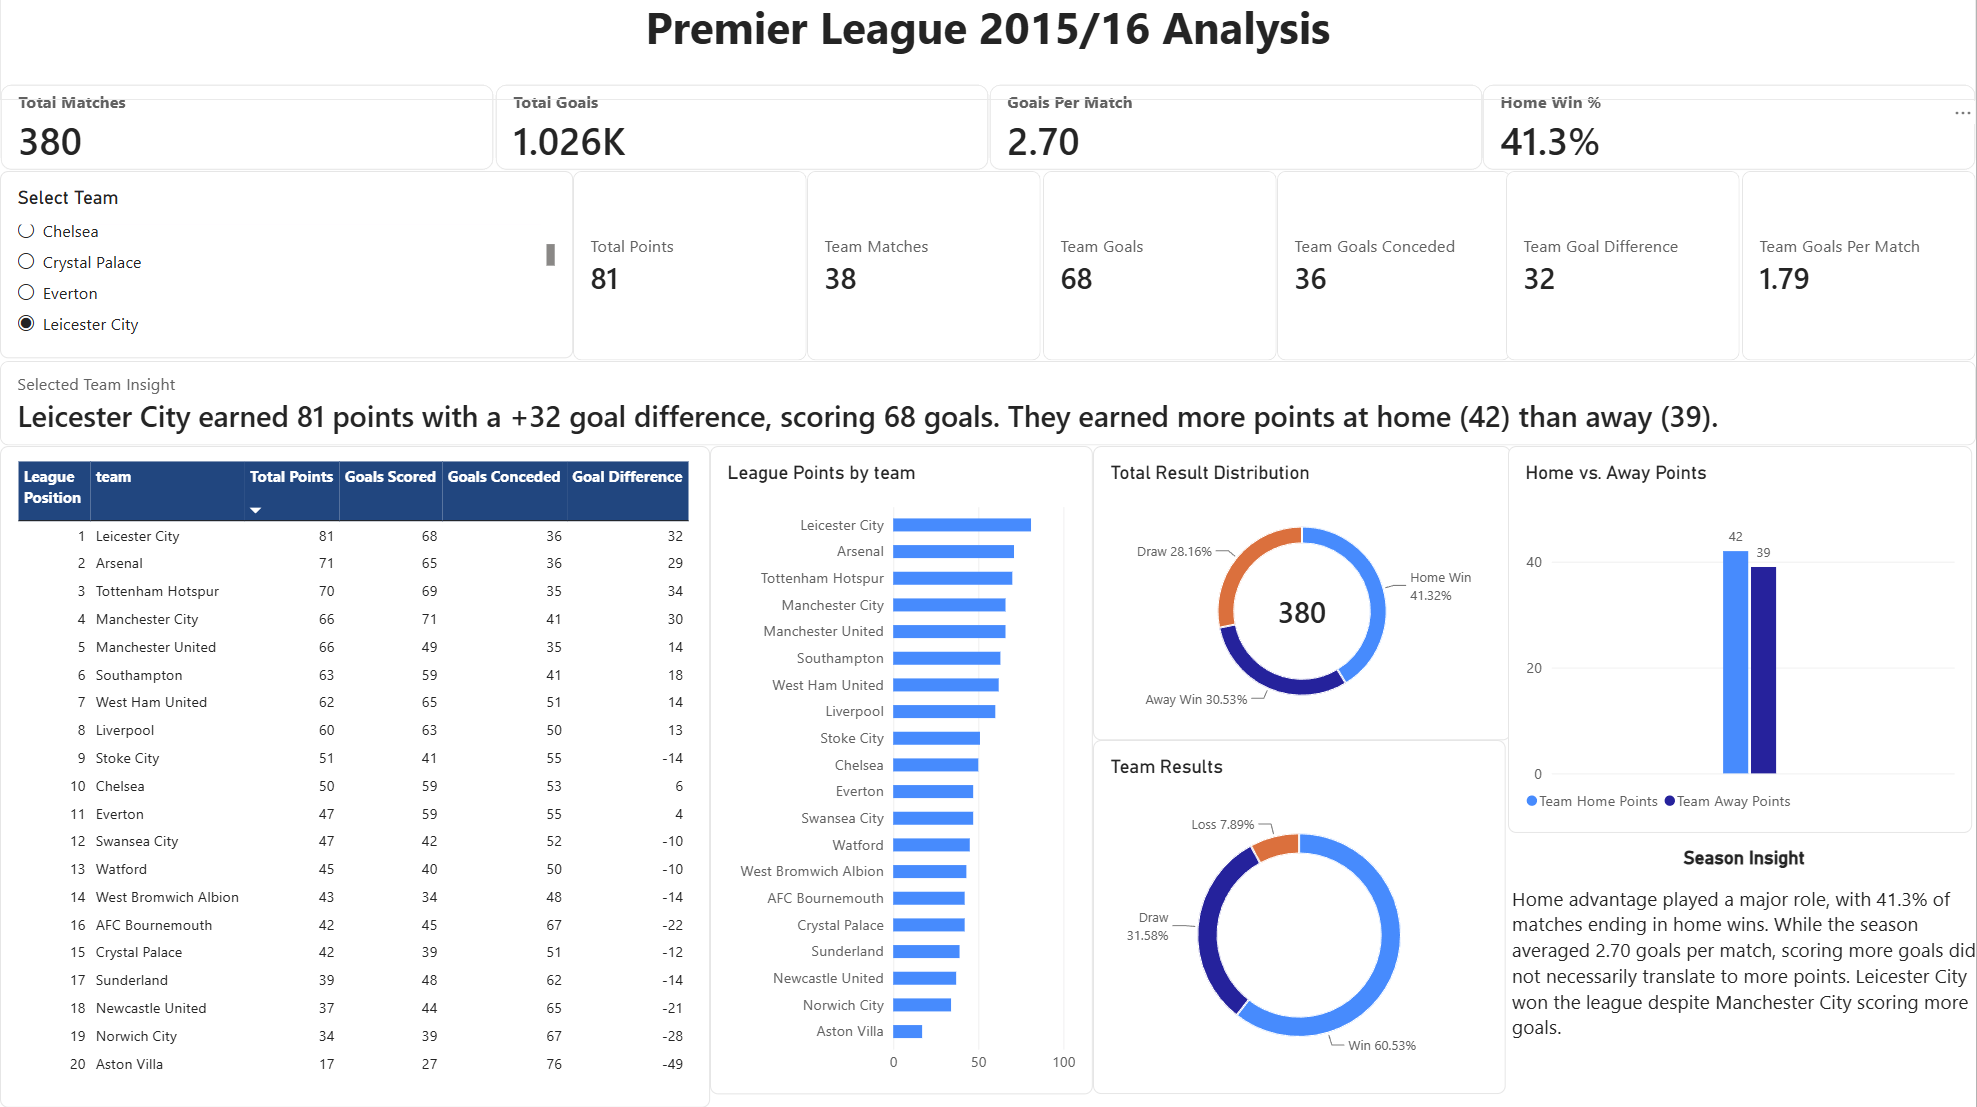

This screenshot's page, from the dashboard's own definition file:
{"tool":"powerbi","page":{"name":"Page 1","canvas":[1920,1080],"ordinal":0},"visuals":[{"type":"cardVisual","fields":{"Data":["cleaned_matches.Total Matches"]},"box":[0,84.6,480,84.6],"z":0},{"type":"cardVisual","fields":{"Data":["cleaned_matches.Total Goals"]},"box":[481.4,84.6,480,84.6],"z":1000},{"type":"cardVisual","fields":{"Data":["cleaned_matches.Goals Per Match"]},"box":[960.9,84.6,480,84.6],"z":2000},{"type":"cardVisual","fields":{"Data":["cleaned_matches.Home Win %"]},"box":[1440.5,84.6,480,84.6],"z":3000},{"type":"donutChart","title":"Total Result Distribution","fields":{"Category":["cleaned_matches.result"],"Y":["CountNonNull(cleaned_matches.result)"]},"box":[1062.5,436.3,406.2,285.8],"z":4000},{"type":"barChart","title":"League Points by team","fields":{"Category":["Teams Table.team"],"Y":["Teams Table.Total Points"]},"box":[690.1,436.3,372.3,630],"z":5000},{"type":"tableEx","fields":{"Values":["Teams Table.League Position","Teams Table.team","Teams Table.Total Points","Teams Table.Goals Scored","Teams Table.Goals Conceded","Teams Table.Goal Difference"]},"box":[0,436.3,690.1,643.1],"z":6000},{"type":"listSlicer","title":"Select Team","fields":{"Values":["Teams Table.team"]},"box":[0,169.2,556.6,182.4],"z":7000},{"type":"cardVisual","fields":{"Data":["Teams Table.Team Aware"]},"box":[784.2,169.2,227.5,184.3],"z":8000},{"type":"cardVisual","fields":{"Data":["Teams Table.Team Goals"]},"box":[1013.6,169.2,227.5,184.3],"z":9000},{"type":"cardVisual","fields":{"Data":["Teams Table.Team Goals Per Match"]},"box":[1692.5,169.2,227.5,184.3],"z":10000},{"type":"cardVisual","fields":{"Data":["Teams Table.Team Goals Conceded"]},"box":[1241.1,169.2,227.5,184.3],"z":11000},{"type":"cardVisual","fields":{"Data":["Teams Table.Team Goal Difference"]},"box":[1463,169.2,227.5,184.3],"z":12000},{"type":"cardVisual","fields":{"Data":["Teams Table.Total Points"]},"box":[556.6,169.2,227.5,184.3],"z":13000},{"type":"clusteredColumnChart","title":"Home vs. Away Points","fields":{"Y":["Teams Table.Team Home Points","Teams Table.Team Away Points"]},"box":[1464.9,436.3,451.3,376.1],"z":14002},{"type":"donutChart","title":"Team Results","fields":{"Category":["Result Type.Result"],"Y":["Teams Table.Team Result Count"]},"box":[1062.5,722.1,400.5,344.1],"z":14006},{"type":"textbox","box":[0,0,1920,100],"z":14007},{"type":"textbox","title":"Season Insight","box":[1468.7,825.5,451.3,240.7],"z":14008},{"type":"cardVisual","fields":{"Data":["Teams Table.Team Insight"]},"box":[0,353.5,1920,82.7],"z":14009}]}

Visuals, with their boxes in screenshot pixels (x1, y1, x2, y2), scaled from the page's 1920x1080 canvas onto the 1977x1107 screenshot:
cardVisual - cleaned_matches.Total Matches: select_region(0, 87, 494, 173)
cardVisual - cleaned_matches.Total Goals: select_region(496, 87, 990, 173)
cardVisual - cleaned_matches.Goals Per Match: select_region(989, 87, 1484, 173)
cardVisual - cleaned_matches.Home Win %: select_region(1483, 87, 1976, 173)
"Total Result Distribution" donutChart: select_region(1094, 447, 1512, 740)
"League Points by team" barChart: select_region(711, 447, 1094, 1093)
tableEx - Teams Table.League Position x Teams Table.team: select_region(0, 447, 711, 1106)
"Select Team" listSlicer: select_region(0, 173, 573, 360)
cardVisual - Teams Table.Team Aware: select_region(807, 173, 1042, 362)
cardVisual - Teams Table.Team Goals: select_region(1044, 173, 1278, 362)
cardVisual - Teams Table.Team Goals Per Match: select_region(1743, 173, 1976, 362)
cardVisual - Teams Table.Team Goals Conceded: select_region(1278, 173, 1512, 362)
cardVisual - Teams Table.Team Goal Difference: select_region(1506, 173, 1741, 362)
cardVisual - Teams Table.Total Points: select_region(573, 173, 807, 362)
"Home vs. Away Points" clusteredColumnChart: select_region(1508, 447, 1973, 833)
"Team Results" donutChart: select_region(1094, 740, 1506, 1093)
textbox: select_region(0, 0, 1976, 102)
"Season Insight" textbox: select_region(1512, 846, 1976, 1093)
cardVisual - Teams Table.Team Insight: select_region(0, 362, 1976, 447)
